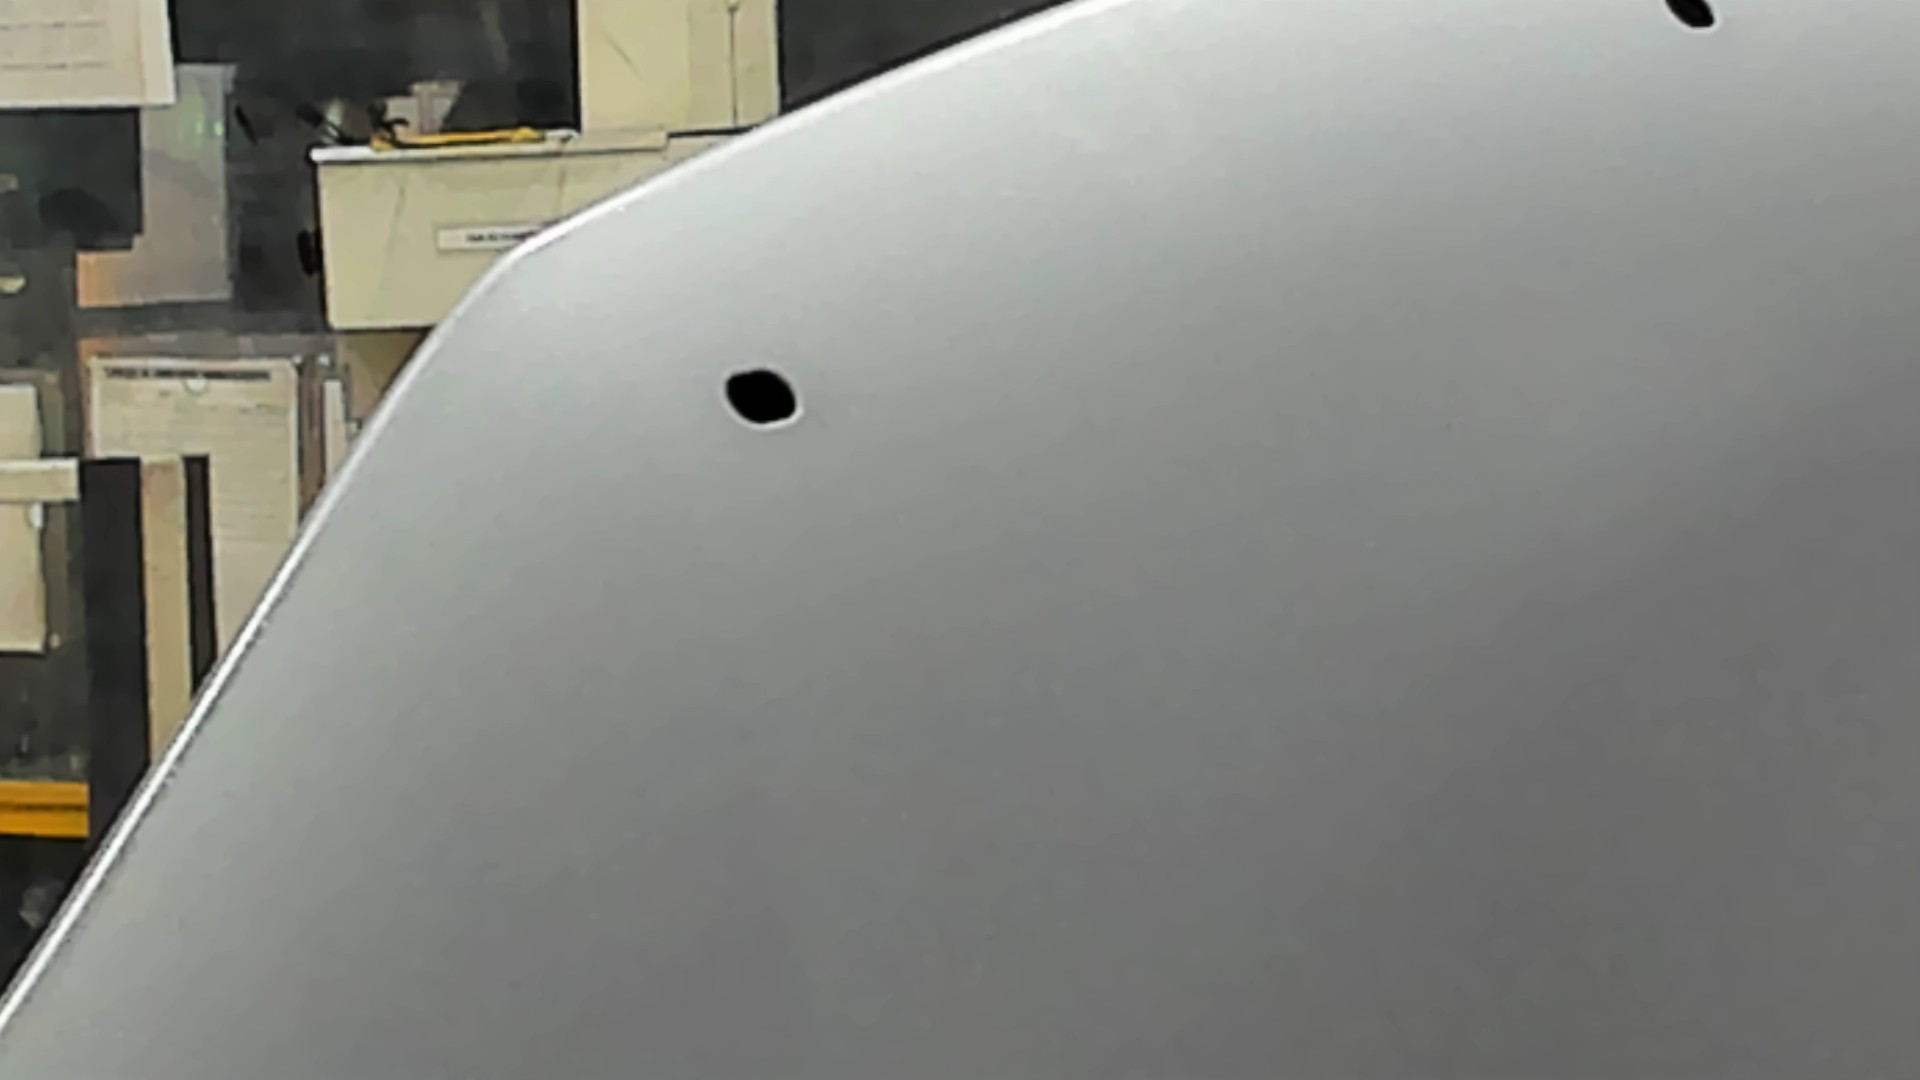Agujero: (723, 365, 803, 430), (1656, 1, 1721, 32)
